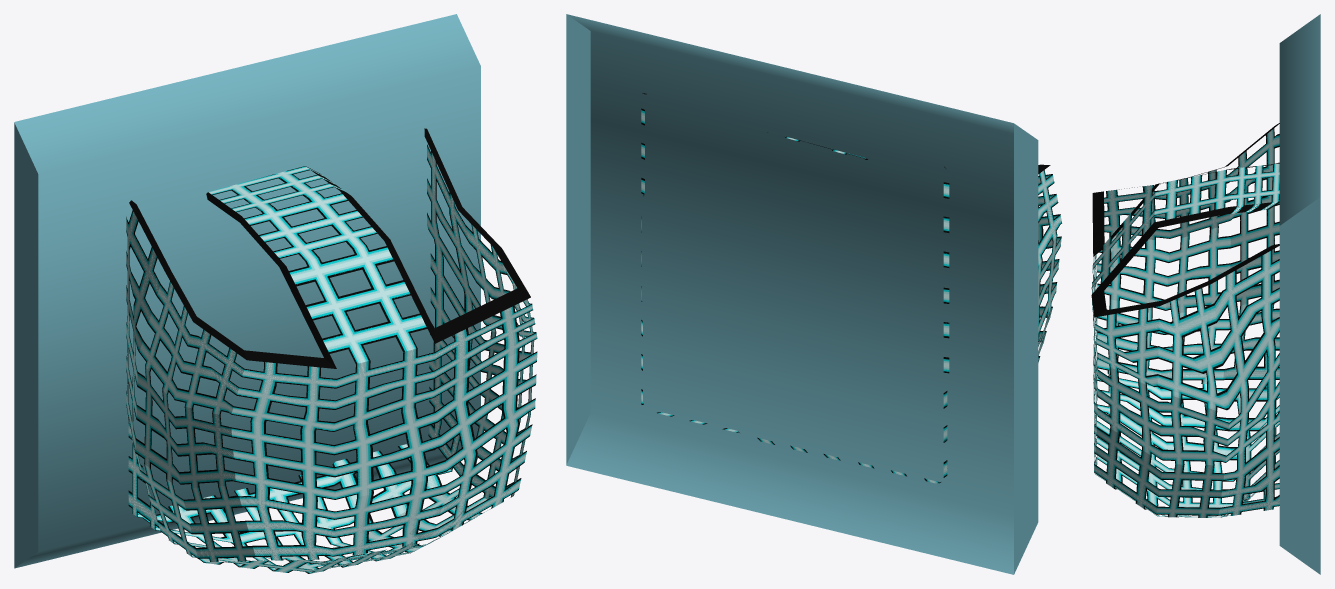
File: net.fbx
The picture shows the model from 3 angles, left to right: view 1: azimuth 30°, elevation 25°; view 2: azimuth 150°, elevation 25°; view 3: azimuth 270°, elevation 25°; orthographic projection. The views are drawn at different scales.
Parts seen in each view (by area): view 1: net; view 2: net; view 3: net.
Boxes of the visible parts, x1=… form: net: x1=14, y1=14, x2=537, y2=573; net: x1=566, y1=14, x2=1061, y2=574; net: x1=1091, y1=14, x2=1320, y2=574.
Bounding box in the file's own units: 32.09 × 31.24 × 16.98.
Materials: 3 (1 with a texture image).
